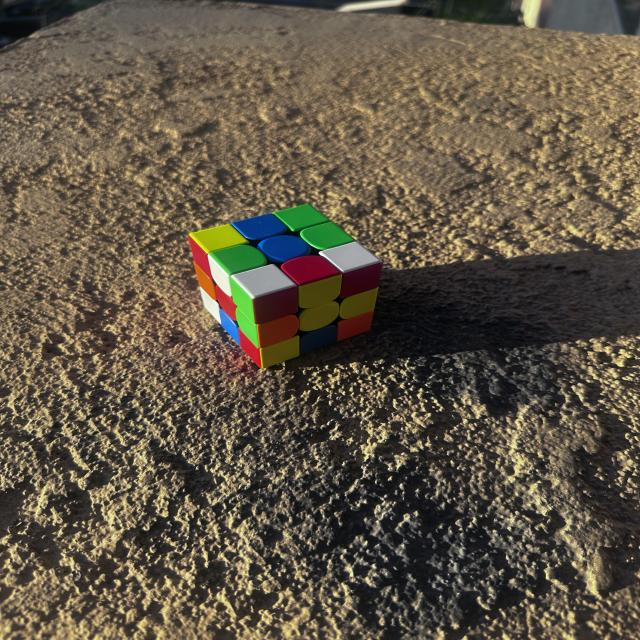sticker: (321, 241, 376, 268), (213, 242, 261, 272), (235, 264, 284, 292), (259, 232, 306, 260), (262, 343, 308, 371), (229, 212, 280, 237), (272, 205, 324, 228), (299, 223, 348, 247), (299, 281, 342, 308), (284, 255, 334, 278), (190, 225, 237, 248), (344, 293, 386, 318), (295, 329, 348, 348), (260, 318, 299, 341), (341, 272, 380, 294), (258, 294, 299, 314), (304, 306, 339, 326), (341, 319, 376, 337)
